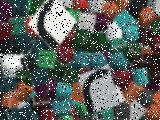Right: (27, 0, 77, 52), (78, 64, 119, 115)
